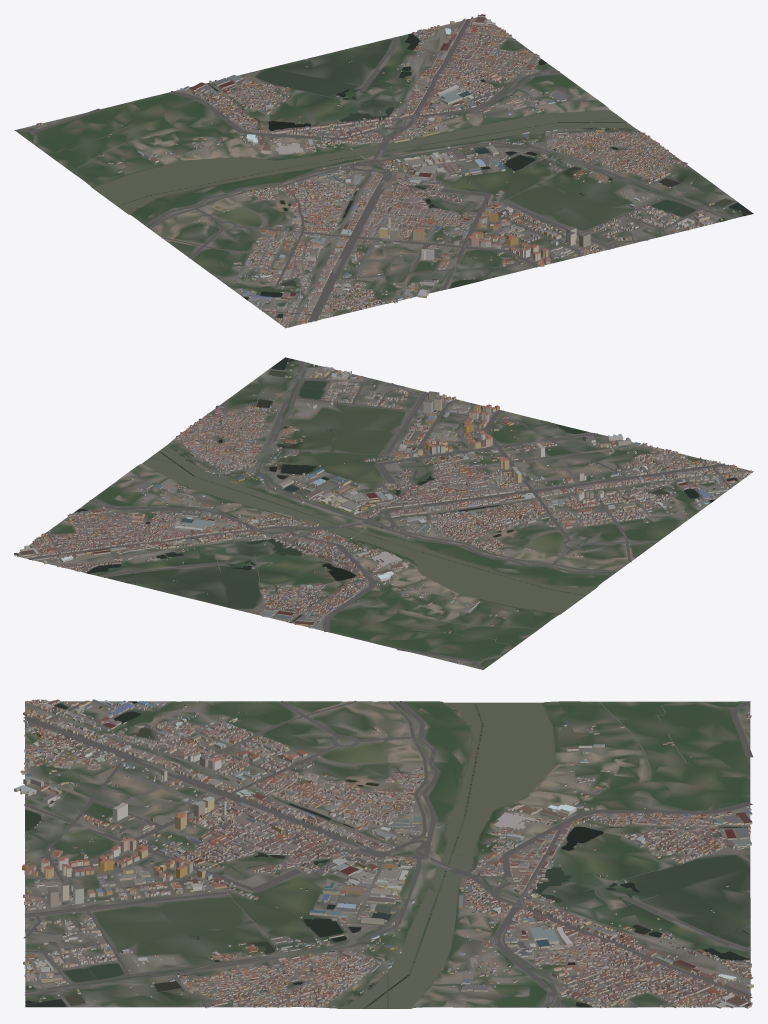
The picture shows the model from 3 angles, top to bottom: view 1: azimuth 30°, elevation 25°; view 2: azimuth 150°, elevation 25°; view 3: azimuth 270°, elevation 25°; orthographic projection. The views are drawn at different scales.
Visible parts, largest first — view 1: ground, buildings, roads, water; view 2: ground, buildings, roads, water; view 3: ground, buildings, water, roads.
Part boxes in pixels (bbox=[...]): ground: bbox=[16, 17, 753, 328]; buildings: bbox=[32, 14, 740, 327]; roads: bbox=[14, 19, 738, 324]; water: bbox=[93, 33, 753, 317]; ground: bbox=[18, 358, 753, 669]; buildings: bbox=[14, 362, 751, 665]; roads: bbox=[28, 361, 748, 669]; water: bbox=[74, 357, 736, 622]; ground: bbox=[25, 701, 750, 1008]; buildings: bbox=[14, 699, 753, 1008]; water: bbox=[25, 701, 750, 1008]; roads: bbox=[23, 700, 752, 1007].
Size of the model in its own units: 2816 by 82.58 by 2860.
